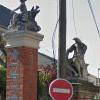Statue: (4, 1, 50, 43)
